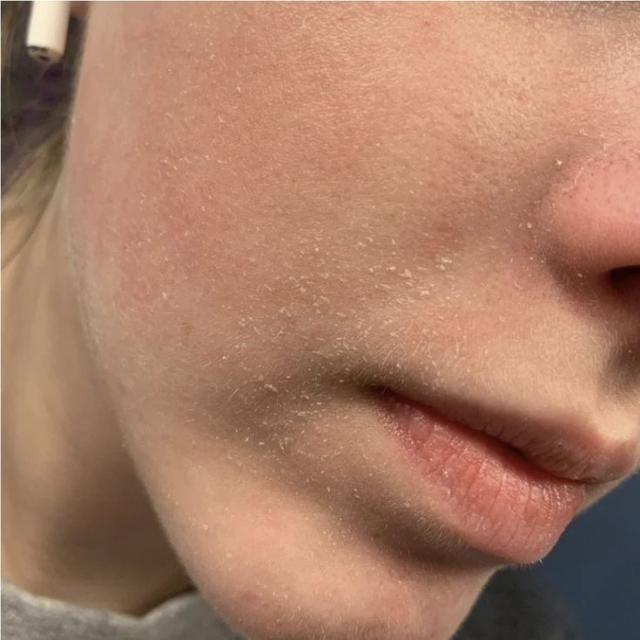Dry-Skin: (145, 334, 428, 566), (146, 80, 218, 322), (278, 235, 394, 377), (405, 151, 515, 289), (232, 416, 359, 534), (292, 64, 378, 196), (267, 579, 437, 640), (428, 44, 537, 128), (521, 123, 570, 297), (232, 454, 235, 464), (460, 63, 462, 65)
